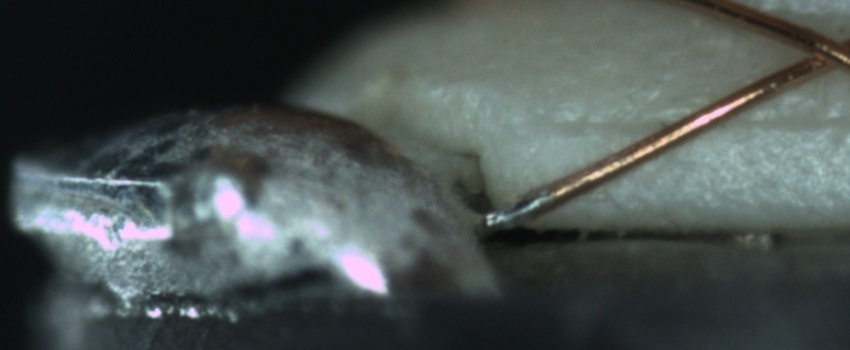CL: (779, 18, 848, 82)
DL: (533, 92, 849, 158)
TS: (483, 188, 547, 231)
TTCW: (478, 170, 582, 230)
